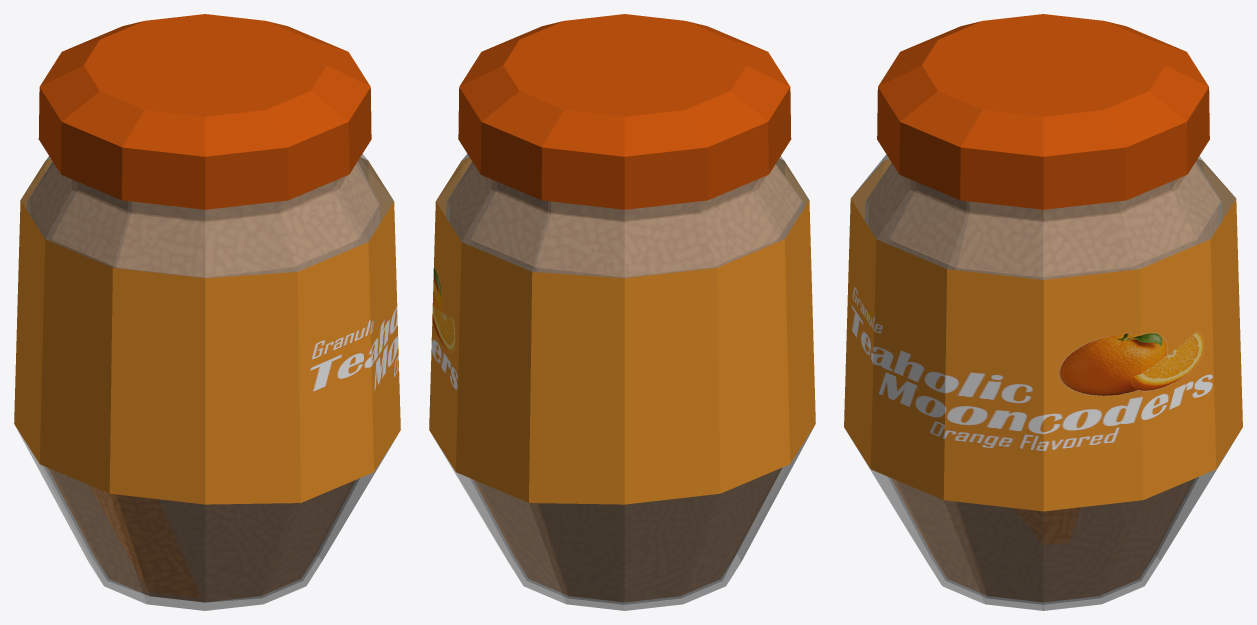
The model's file is OrangeProductContainer.fbx.
The picture shows the model from 3 angles, left to right: view 1: azimuth 30°, elevation 25°; view 2: azimuth 150°, elevation 25°; view 3: azimuth 270°, elevation 25°; orthographic projection.
Visible parts, largest first — view 1: OrangeContainer, OrangeCover, OrangeGranule, OrangeGranule_5, OrangeGranule_4; view 2: OrangeContainer, OrangeCover, OrangeGranule, OrangeGranule_5, OrangeGranule_4; view 3: OrangeContainer, OrangeCover, OrangeGranule_5, OrangeGranule, OrangeGranule_4.
Boxes of the visible parts, x1,y1,x2,y2 form: OrangeContainer: [14, 154, 400, 610]; OrangeCover: [38, 14, 371, 209]; OrangeGranule: [48, 468, 355, 601]; OrangeGranule_5: [28, 162, 377, 276]; OrangeGranule_4: [30, 202, 379, 277]; OrangeContainer: [429, 154, 815, 610]; OrangeCover: [458, 14, 791, 209]; OrangeGranule: [474, 468, 781, 601]; OrangeGranule_5: [448, 162, 801, 275]; OrangeGranule_4: [450, 207, 799, 277]; OrangeContainer: [844, 154, 1242, 610]; OrangeCover: [877, 14, 1209, 209]; OrangeGranule_5: [866, 162, 1220, 275]; OrangeGranule: [892, 479, 1194, 601]; OrangeGranule_4: [868, 207, 1218, 279].
Bounding box in the file's own units: 61 × 86.5 × 63.04.
Materials: 5 (3 with a texture image).
